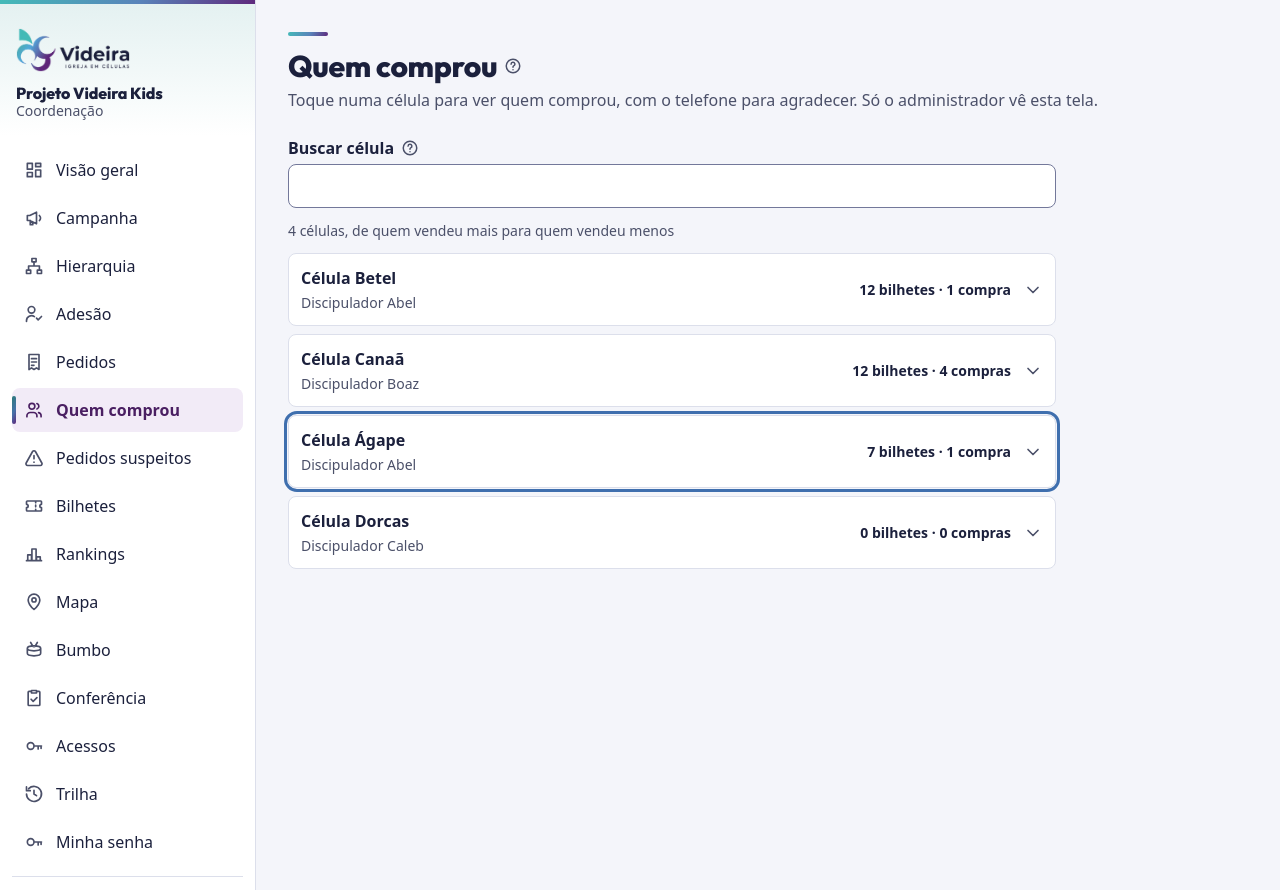
Test: Quem comprou: a rolagem até a célula aberta › sem ?celula=, o toque no cartão abre ali mesmo, sem rolar a tela (o cartão fica onde o dedo está)
The image size is (1280, 890).
Expected: the heading "Quem comprou" is shown, [288,48,497,84]
Click the button "Célula Ágape Discipulador Abel 7 bilhetes · 1 compra".
click(353, 440)  # box [289,416,1055,487]
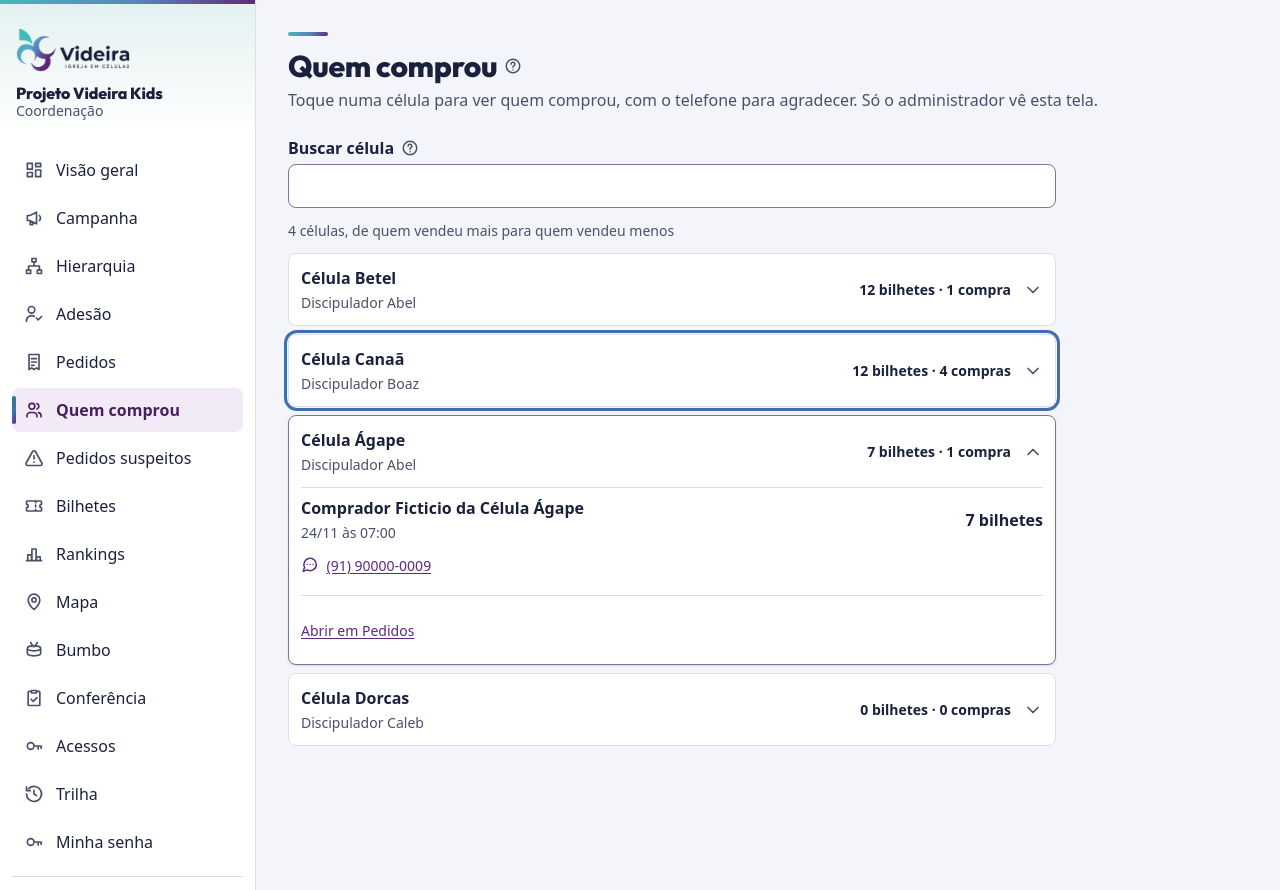
Expected: the element named "Compras da Célula Ágape" is shown, [289,487,1055,664]
Click the button "Célula Canaã Discipulador Boaz 12 bilhetes · 4 compras".
click(353, 359)  # box [289,335,1055,406]
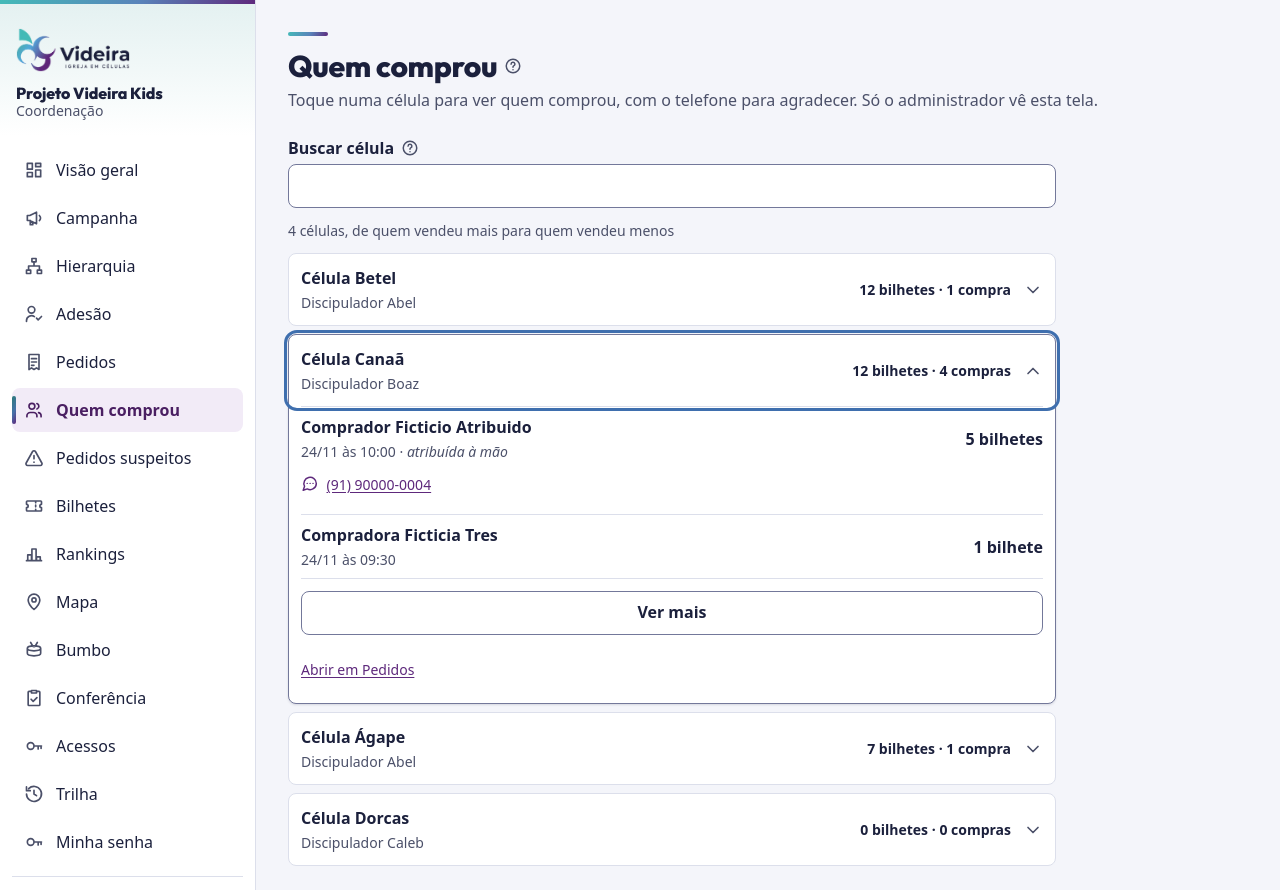
Expected: the element named "Compras da Célula Canaã" is shown, [289,406,1055,703]
